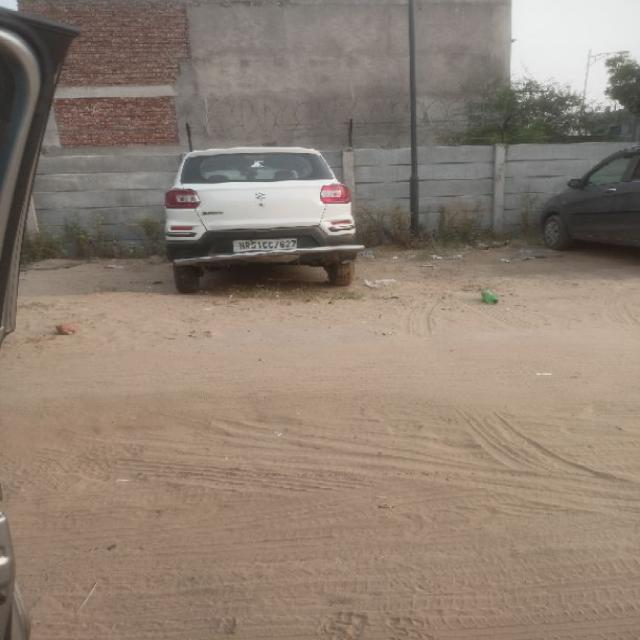license_plate: (230, 237, 298, 253)
